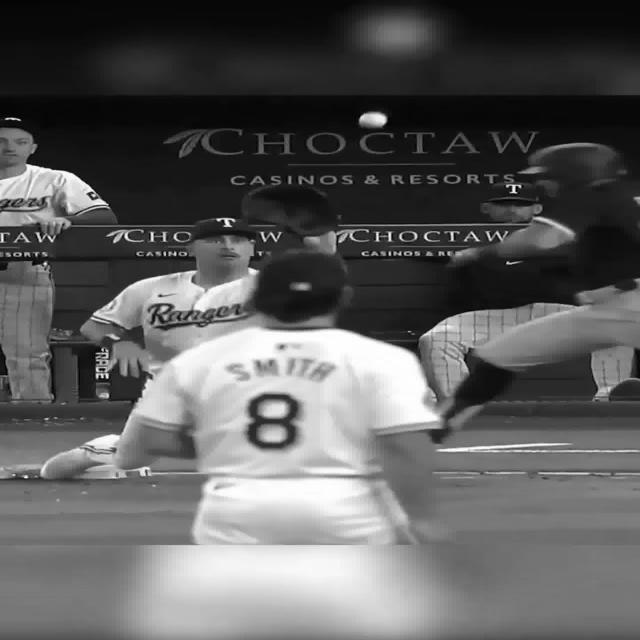base: (5, 465, 155, 481)
baseball: (358, 111, 388, 129)
baseball_glove: (240, 183, 340, 236)
shoe: (40, 433, 152, 480)
